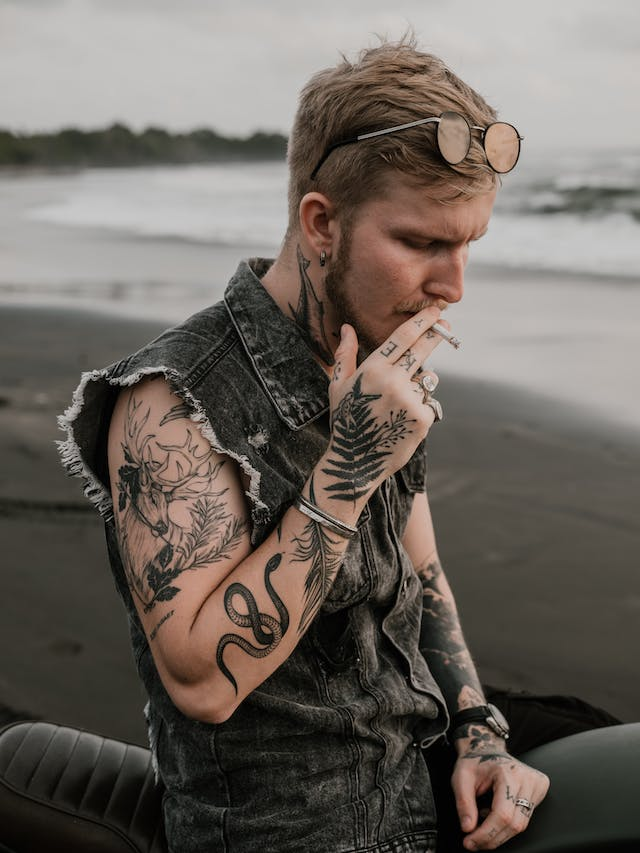Cigarette: (429, 320, 463, 351)
